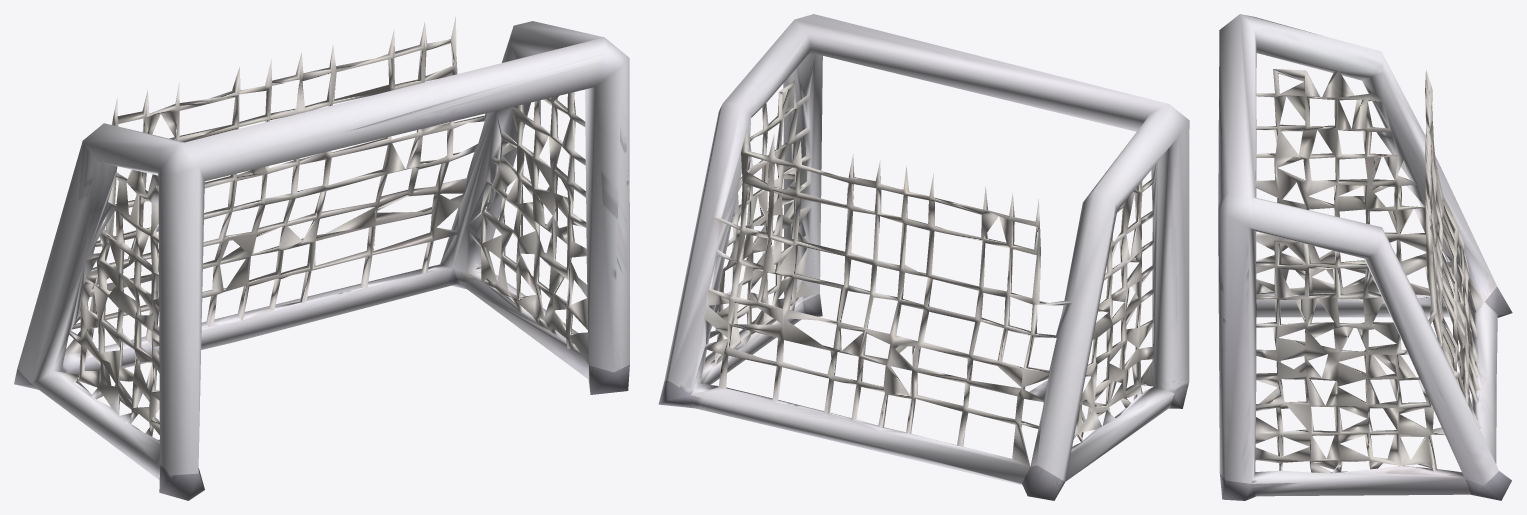
File: soccergoal.glb
The picture shows the model from 3 angles, left to right: view 1: azimuth 30°, elevation 25°; view 2: azimuth 150°, elevation 25°; view 3: azimuth 270°, elevation 25°; orthographic projection. The views are drawn at different scales.
Parts seen in each view (by area): view 1: model; view 2: model; view 3: model.
Part boxes in pixels (<box>): model: <box>14,15,629,500</box>; model: <box>658,14,1189,500</box>; model: <box>1218,14,1512,500</box>.
Bounding box in the file's own units: 1.9 × 1.36 × 1.2.
1 material, 1 textured.
